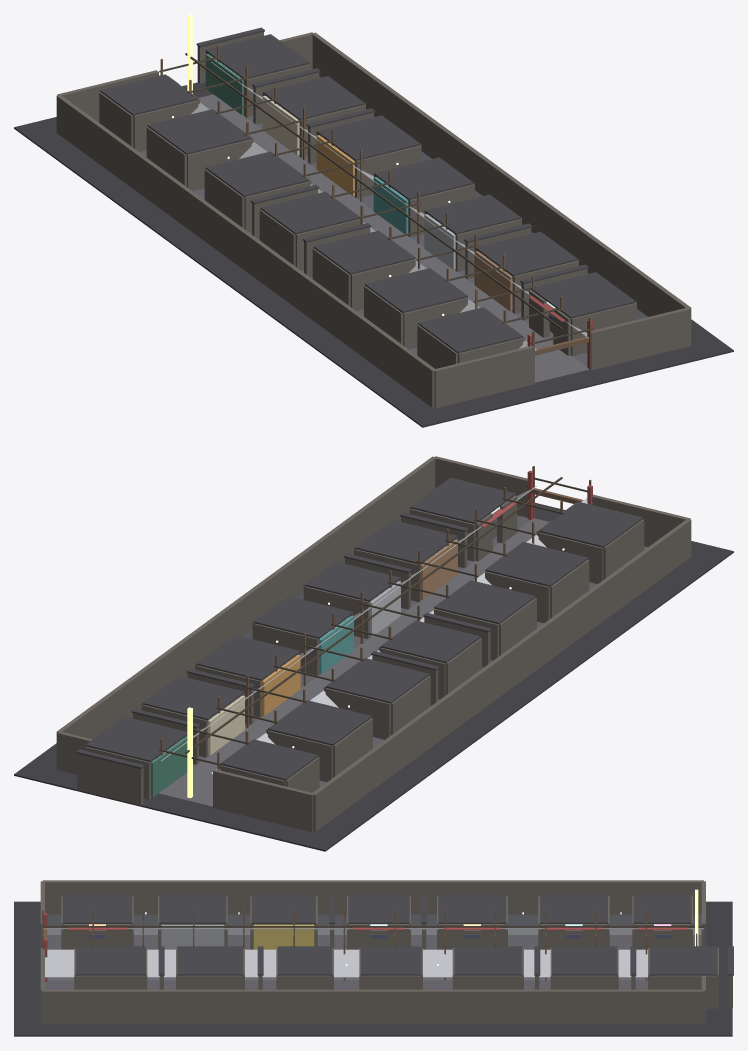
File: prop_course_b.glb
The picture shows the model from 3 angles, top to bottom: view 1: azimuth 30°, elevation 25°; view 2: azimuth 150°, elevation 25°; view 3: azimuth 270°, elevation 25°; orthographic projection. The views are drawn at different scales.
Visible parts, largest first — view 1: course_b; view 2: course_b; view 3: course_b.
Boxes of the visible parts, x1,y1,x2,y2 form: course_b: (14,14,733,427); course_b: (14,456,733,851); course_b: (14,880,733,1036).
Bounding box in the file's own units: 44 × 12.2 × 100.
